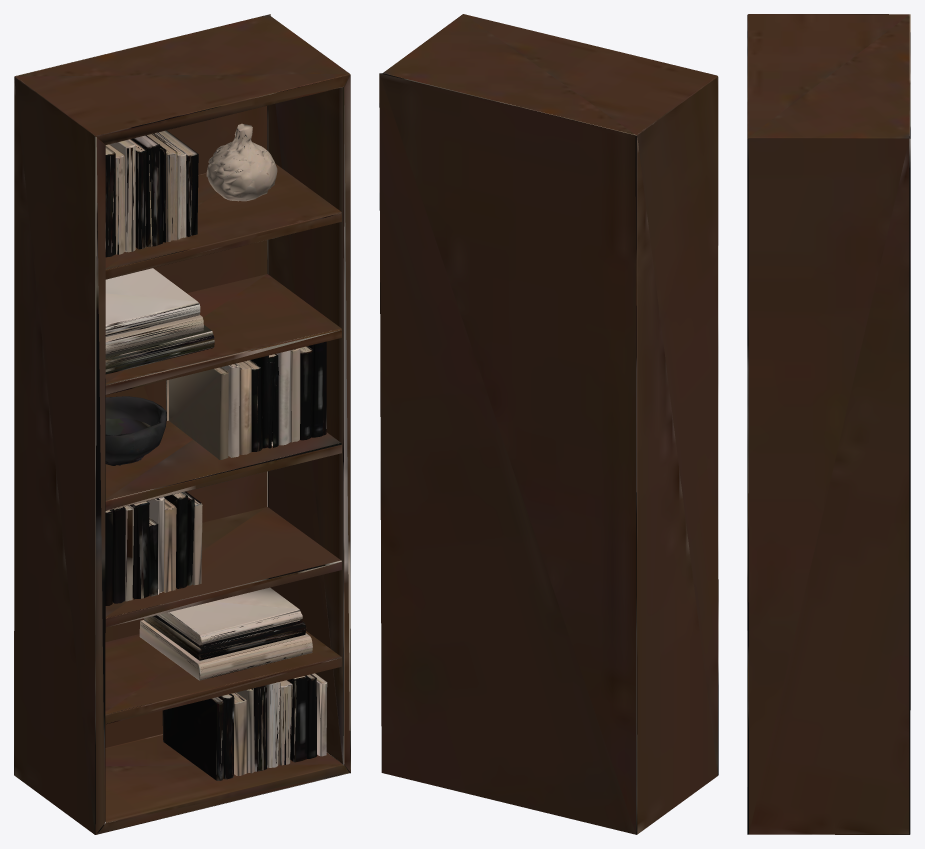
The model's file is mobile.glb.
3 views of the same model, side by side, from view 1: azimuth 30°, elevation 25°; view 2: azimuth 150°, elevation 25°; view 3: azimuth 270°, elevation 25° (orthographic).
Visible parts, largest first — view 1: bookshelf; view 2: bookshelf; view 3: bookshelf.
Part boxes in pixels (x1=…): bookshelf: x1=14, y1=14, x2=350, y2=834; bookshelf: x1=379, y1=14, x2=718, y2=834; bookshelf: x1=747, y1=14, x2=910, y2=834.
Bounding box in the file's own units: 0.7314 × 1.9 × 0.4033.
1 material, 1 textured.
